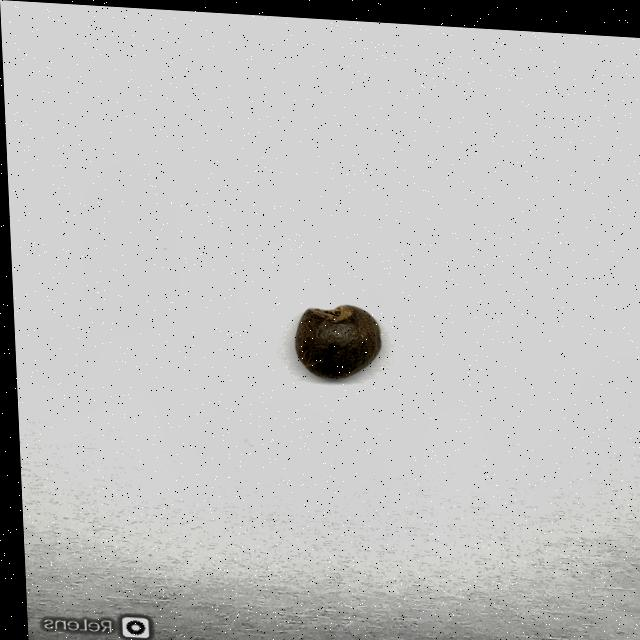Black: (289, 297, 382, 380)
